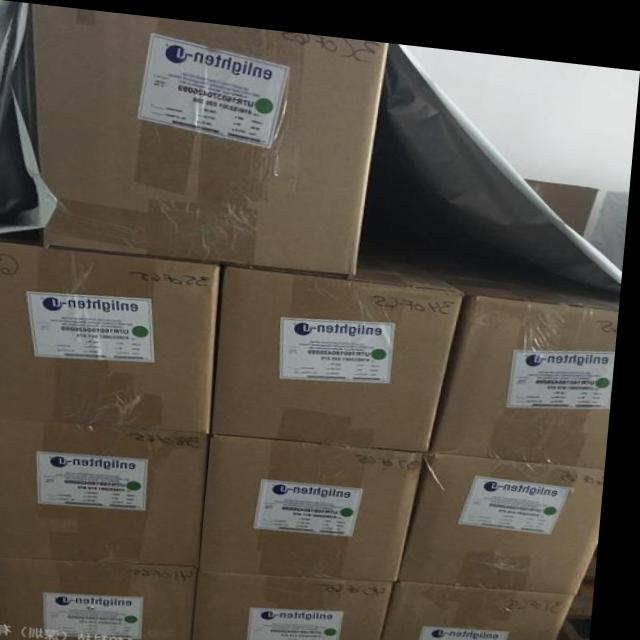box: (32, 3, 389, 271), (221, 252, 472, 442), (0, 239, 226, 427), (436, 259, 624, 454), (205, 427, 435, 572), (0, 416, 219, 560), (407, 442, 612, 580), (1, 556, 206, 640), (200, 564, 408, 640), (389, 570, 587, 640)
